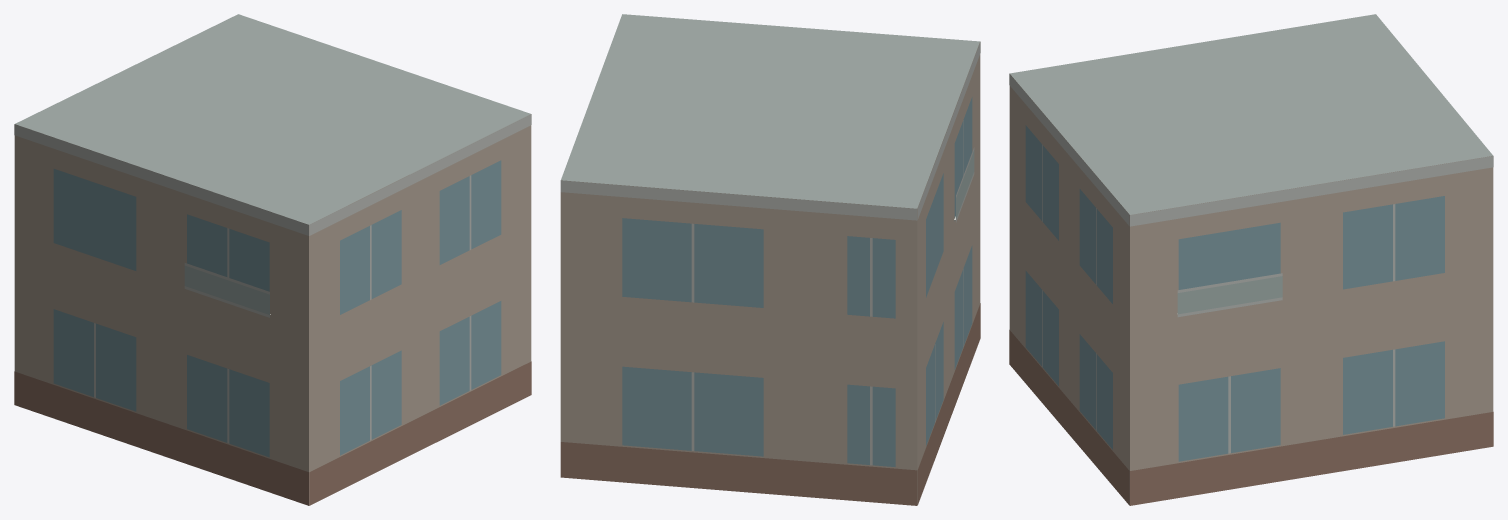
Rendered from survey-upis-32489820.glb.
3 views of the same model, side by side, from view 1: azimuth 30°, elevation 25°; view 2: azimuth 150°, elevation 25°; view 3: azimuth 270°, elevation 25° (orthographic). The views are drawn at different scales.
Visible parts, largest first — view 1: survey-upis-32489820.tmp; view 2: survey-upis-32489820.tmp; view 3: survey-upis-32489820.tmp.
Part boxes in pixels (left/top/right/bottom): survey-upis-32489820.tmp: left=14, top=14, right=531, bottom=505; survey-upis-32489820.tmp: left=560, top=14, right=980, bottom=505; survey-upis-32489820.tmp: left=1009, top=14, right=1493, bottom=505.
Size of the model in its own units: 9.05 by 6.1 by 9.21.
